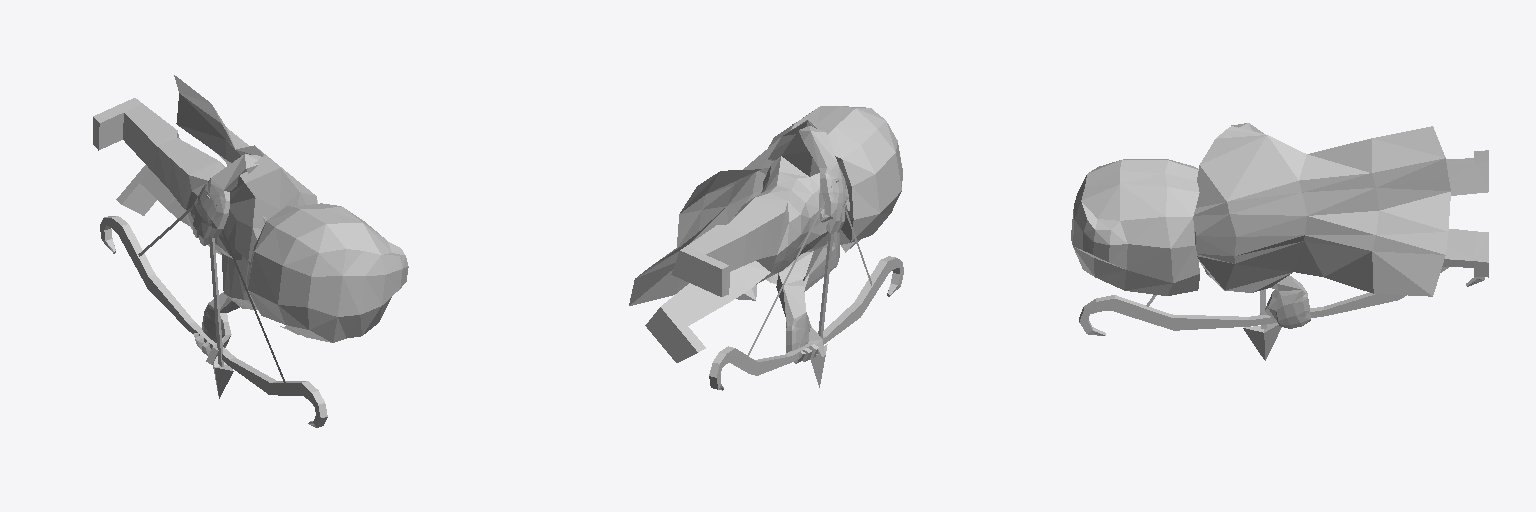
The model's file is ranger_ready.obj.
3 views of the same model, side by side, from view 1: azimuth 30°, elevation 25°; view 2: azimuth 150°, elevation 25°; view 3: azimuth 270°, elevation 25° (orthographic).
Parts seen in each view (by area): view 1: male.004_Plane.012; view 2: male.004_Plane.012; view 3: male.004_Plane.012.
Boxes of the visible parts, x1,y1,x2,y2 form: male.004_Plane.012: [93, 75, 408, 427]; male.004_Plane.012: [629, 106, 903, 390]; male.004_Plane.012: [1071, 123, 1488, 360].
Size of the model in its own units: 2.86 by 5.3 by 7.9.